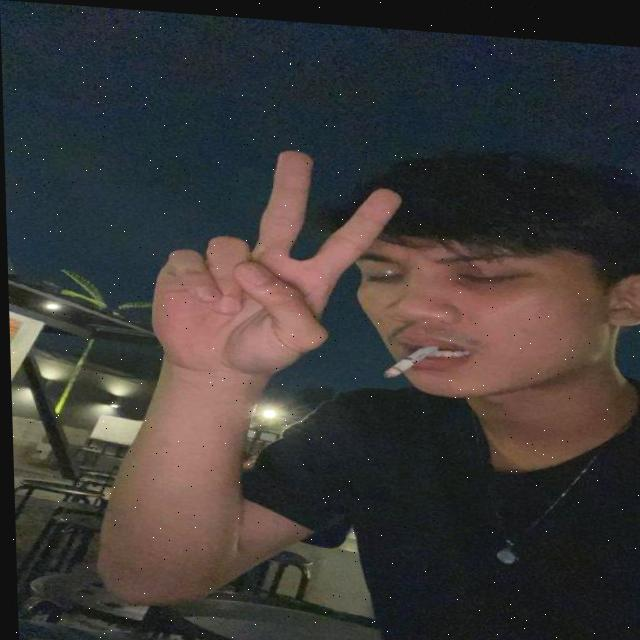cigarette: (380, 337, 436, 376)
